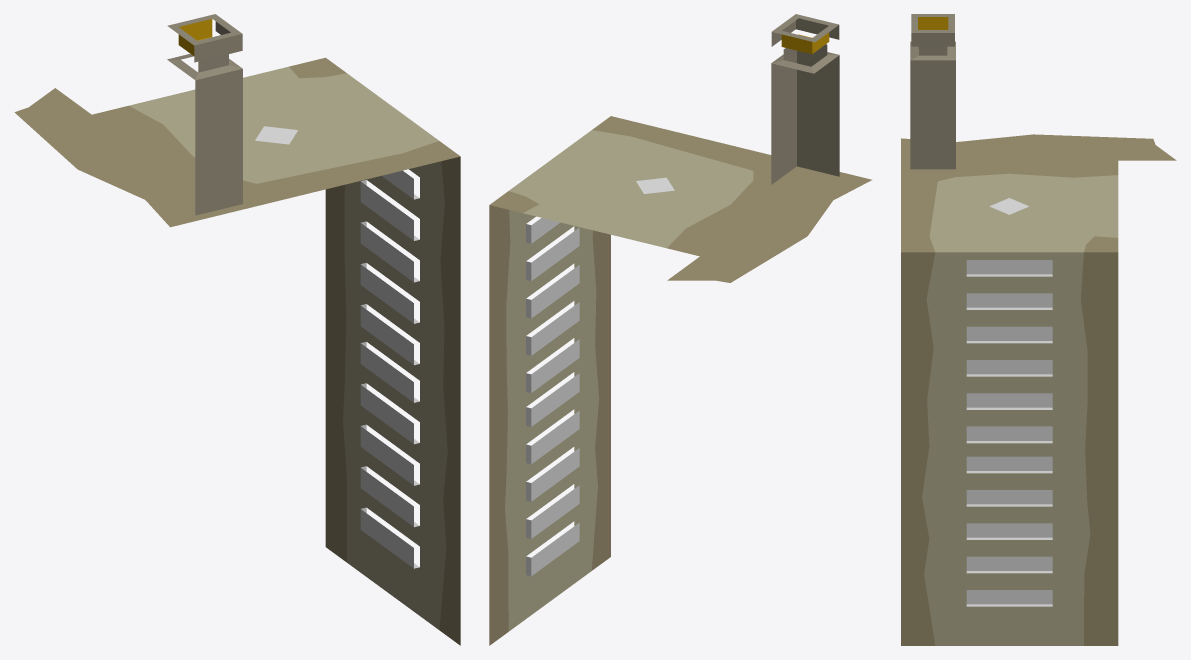
Rendered from 90L Left to Right.fbx.
3 views of the same model, side by side, from view 1: azimuth 30°, elevation 25°; view 2: azimuth 150°, elevation 25°; view 3: azimuth 270°, elevation 25° (orthographic). The views are drawn at different scales.
Visible parts, largest first — view 1: polySurface7486; view 2: polySurface7486; view 3: polySurface7486.
Part boxes in pixels (left/top/right/bottom): polySurface7486: left=14, top=14, right=460, bottom=645; polySurface7486: left=489, top=14, right=872, bottom=645; polySurface7486: left=901, top=14, right=1176, bottom=645.
Size of the model in its own units: 129 by 269 by 127.
